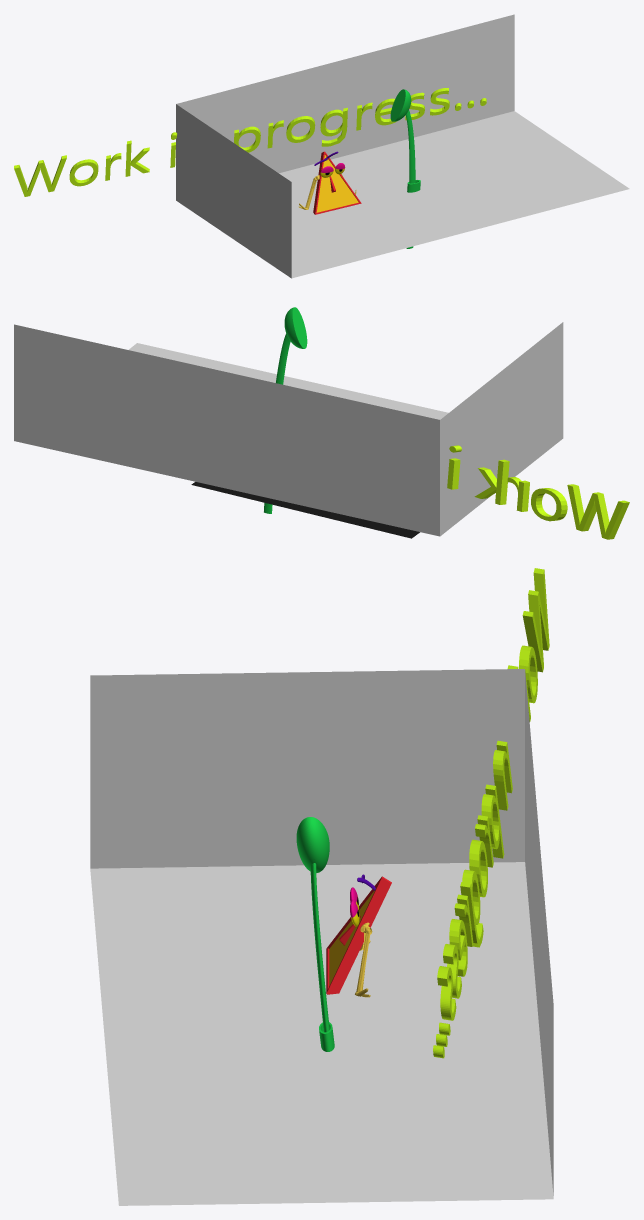
File: scene_inprogress_panel.gltf
3 renders of one model, top to bottom at view 1: azimuth 30°, elevation 25°; view 2: azimuth 150°, elevation 25°; view 3: azimuth 270°, elevation 25°, orthographic. The views are drawn at different scales.
Parts seen in each view (by area): view 1: walls, Mesh_8, Cube, Mesh_10, Mesh_11; view 2: walls, Mesh_8, Plane, Mesh_10, Mesh_11; view 3: walls, Mesh_8, Cube, Mesh_10, Mesh_11.
Boxes of the visible parts, box(x1,y1,x2,y2) form: walls: box(176, 14, 629, 278); Mesh_8: box(14, 88, 486, 196); Cube: box(313, 151, 361, 214); Mesh_10: box(390, 89, 411, 121); Mesh_11: box(405, 110, 415, 248); walls: box(14, 322, 563, 536); Mesh_8: box(447, 445, 629, 539); Plane: box(191, 482, 419, 538); Mesh_10: box(284, 307, 307, 348); Mesh_11: box(264, 333, 290, 513); walls: box(90, 669, 553, 1205); Mesh_8: box(433, 568, 549, 1058); Cube: box(326, 876, 391, 994); Mesh_10: box(296, 817, 329, 872); Mesh_11: box(310, 863, 329, 1032).
Bounding box in the file's own units: 54.37 × 17.02 × 21.31.
13 materials, 6 textured.
